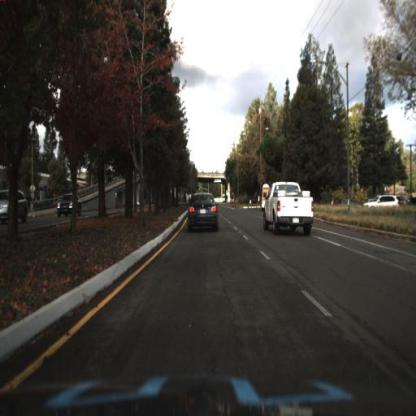car: (257, 176, 319, 238), (184, 185, 218, 229), (0, 187, 29, 224), (364, 186, 402, 214), (53, 190, 82, 221), (361, 193, 403, 208), (55, 194, 75, 220)
